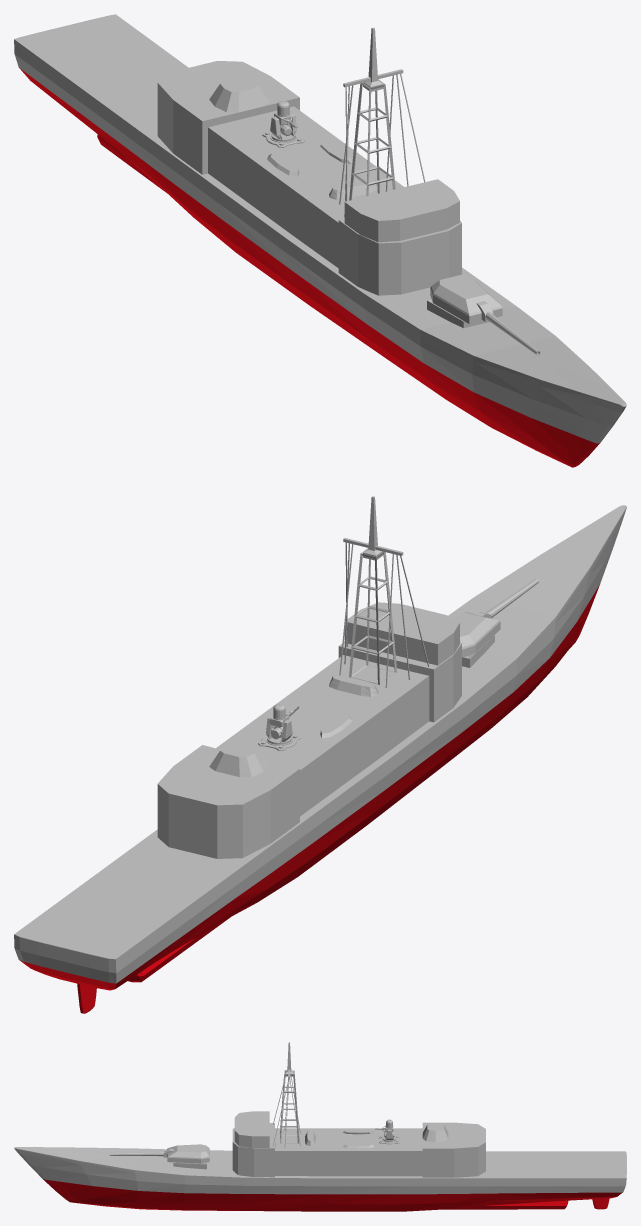
Rendered from middle_classic3.fbx.
3 renders of one model, top to bottom at view 1: azimuth 30°, elevation 25°; view 2: azimuth 150°, elevation 25°; view 3: azimuth 270°, elevation 25°, orthographic. The views are drawn at different scales.
Visible parts, largest first — view 1: middle_classic3; view 2: middle_classic3; view 3: middle_classic3.
Boxes of the visible parts, x1,y1,x2,y2 form: middle_classic3: (14, 14, 626, 467); middle_classic3: (14, 496, 626, 1013); middle_classic3: (14, 1042, 626, 1211).
Bounding box in the file's own units: 513 × 1470 × 4905.
